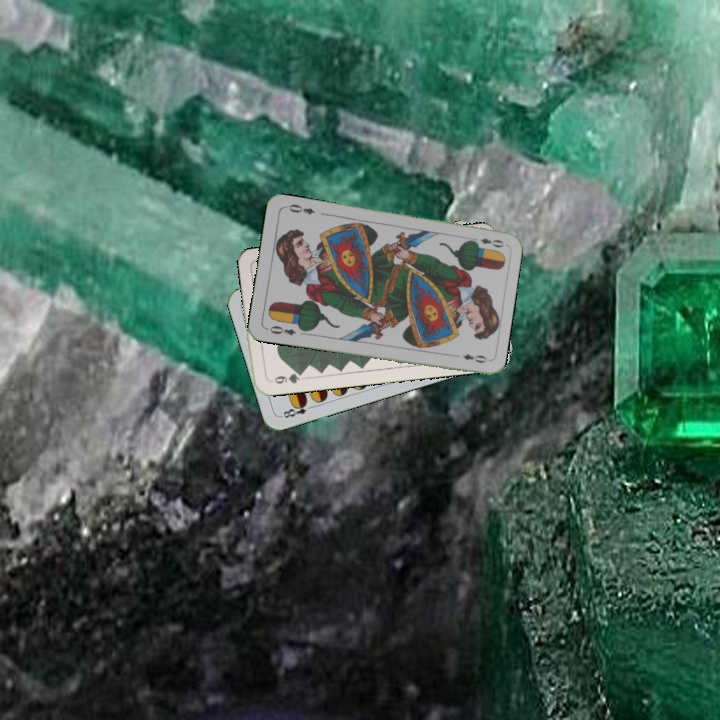E8: (277, 398, 317, 421)
EO: (467, 234, 507, 250), (262, 321, 298, 338)
G9: (266, 368, 306, 386)
